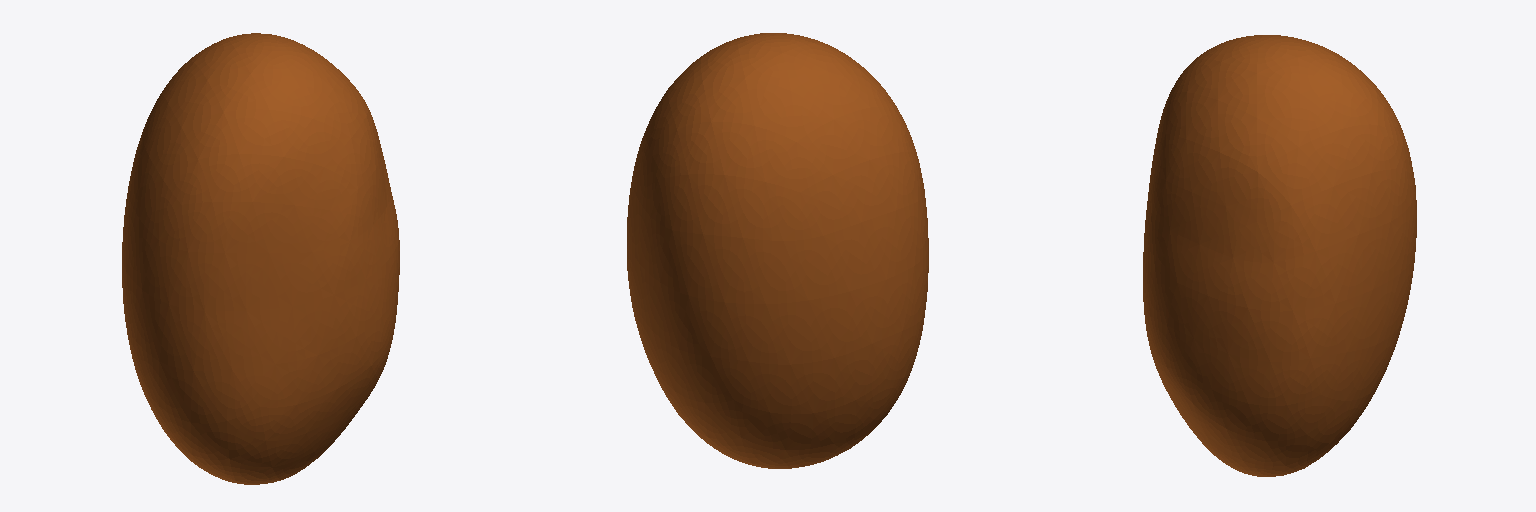
File: yasinomi.obj
3 views of the same model, side by side, from view 1: azimuth 30°, elevation 25°; view 2: azimuth 150°, elevation 25°; view 3: azimuth 270°, elevation 25° (orthographic).
Visible parts, largest first — view 1: Icosphere; view 2: Icosphere; view 3: Icosphere.
Boxes of the visible parts, x1,y1,x2,y2 form: Icosphere: [122, 33, 399, 484]; Icosphere: [627, 33, 928, 468]; Icosphere: [1143, 35, 1416, 476].
Size of the model in its own units: 0.964 by 1.5 by 0.8789.